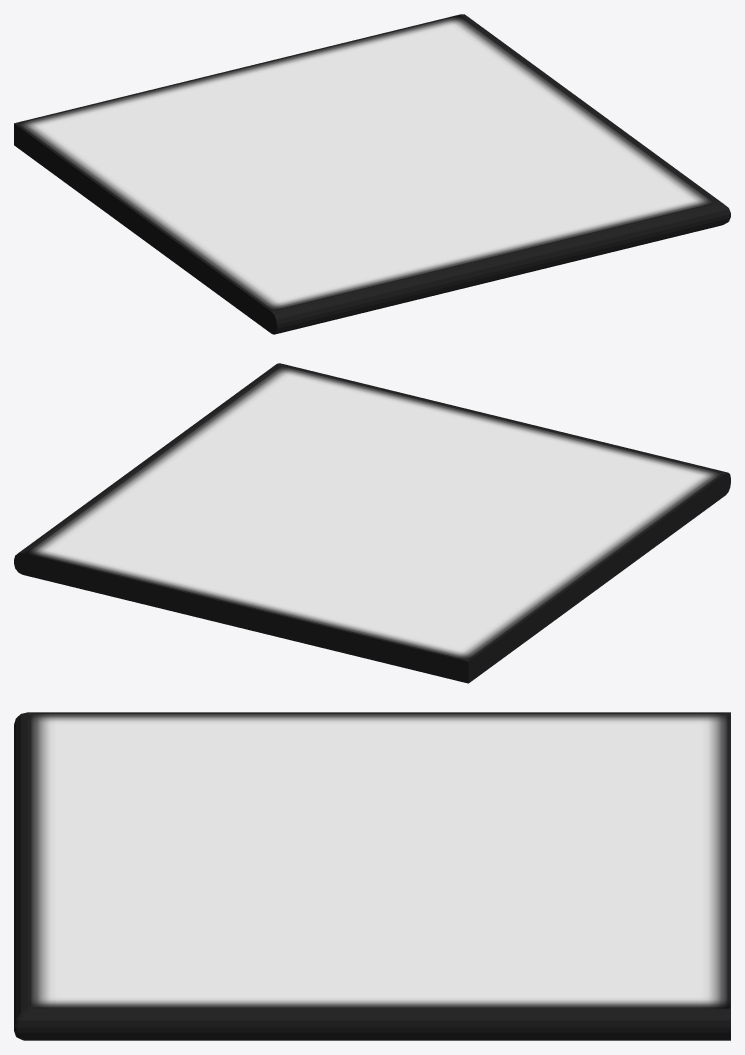
Rendered from corner.fbx.
3 views of the same model, one above another, from view 1: azimuth 30°, elevation 25°; view 2: azimuth 150°, elevation 25°; view 3: azimuth 270°, elevation 25° (orthographic). The views are drawn at different scales.
Visible parts, largest first — view 1: Corner; view 2: Corner; view 3: Corner.
Part boxes in pixels (box(x1,y1,x2,y2)): Corner: box(14, 14, 730, 334); Corner: box(14, 363, 730, 683); Corner: box(14, 712, 730, 1040).
Size of the model in its own units: 26 by 1.2 by 26.
